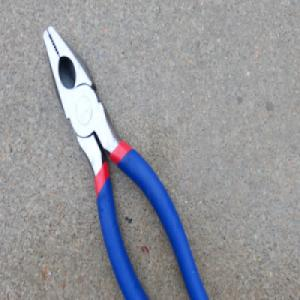Pliers: (43, 24, 212, 300)
